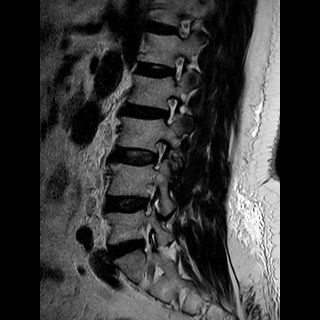LFS0: (163, 48, 190, 87), (157, 91, 183, 131)
LFS1: (143, 135, 174, 173)
